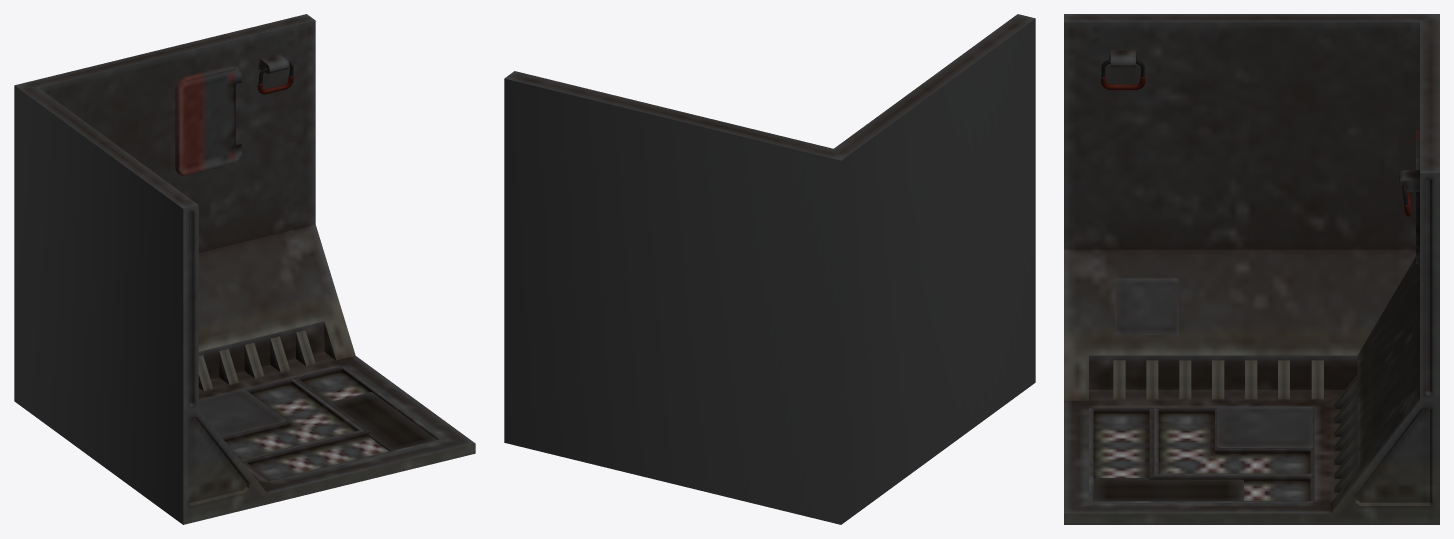
Rendered from Wall-Floor_20_Corner_in_2.FBX.
3 renders of one model, left to right at view 1: azimuth 30°, elevation 25°; view 2: azimuth 150°, elevation 25°; view 3: azimuth 270°, elevation 25°, orthographic. The views are drawn at different scales.
Visible parts, largest first — view 1: Wall-Floor_20; view 2: Wall-Floor_20; view 3: Wall-Floor_20.
Part boxes in pixels (<box>): Wall-Floor_20: <box>14,14,475,524</box>; Wall-Floor_20: <box>504,14,1035,524</box>; Wall-Floor_20: <box>1064,14,1439,524</box>.
Bounding box in the file's own units: 300 × 310 × 300.
